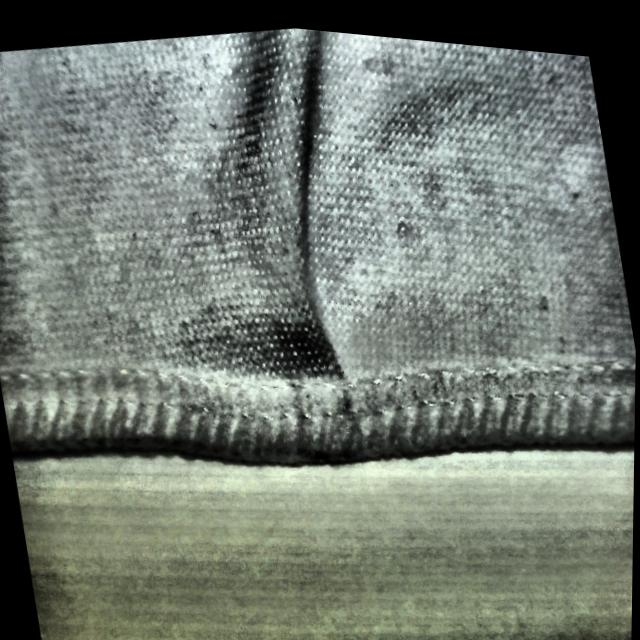seam: (223, 155, 409, 474)
